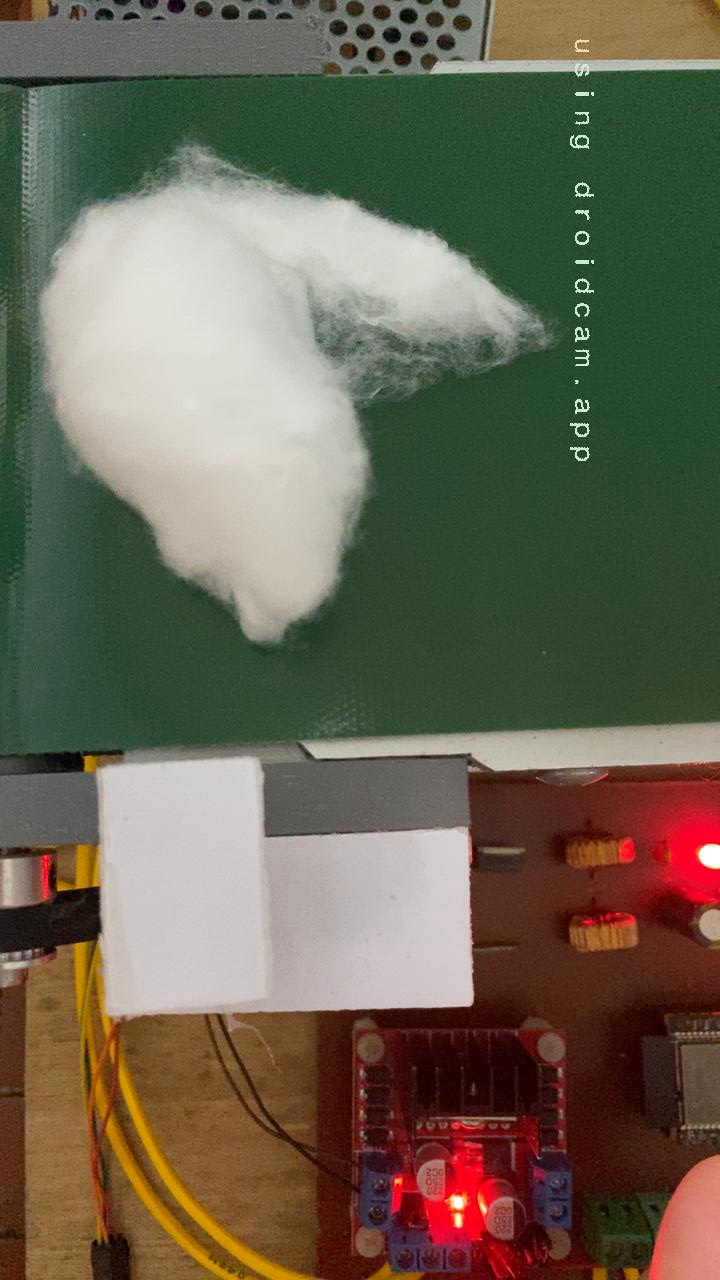cotton: (29, 139, 551, 650)
